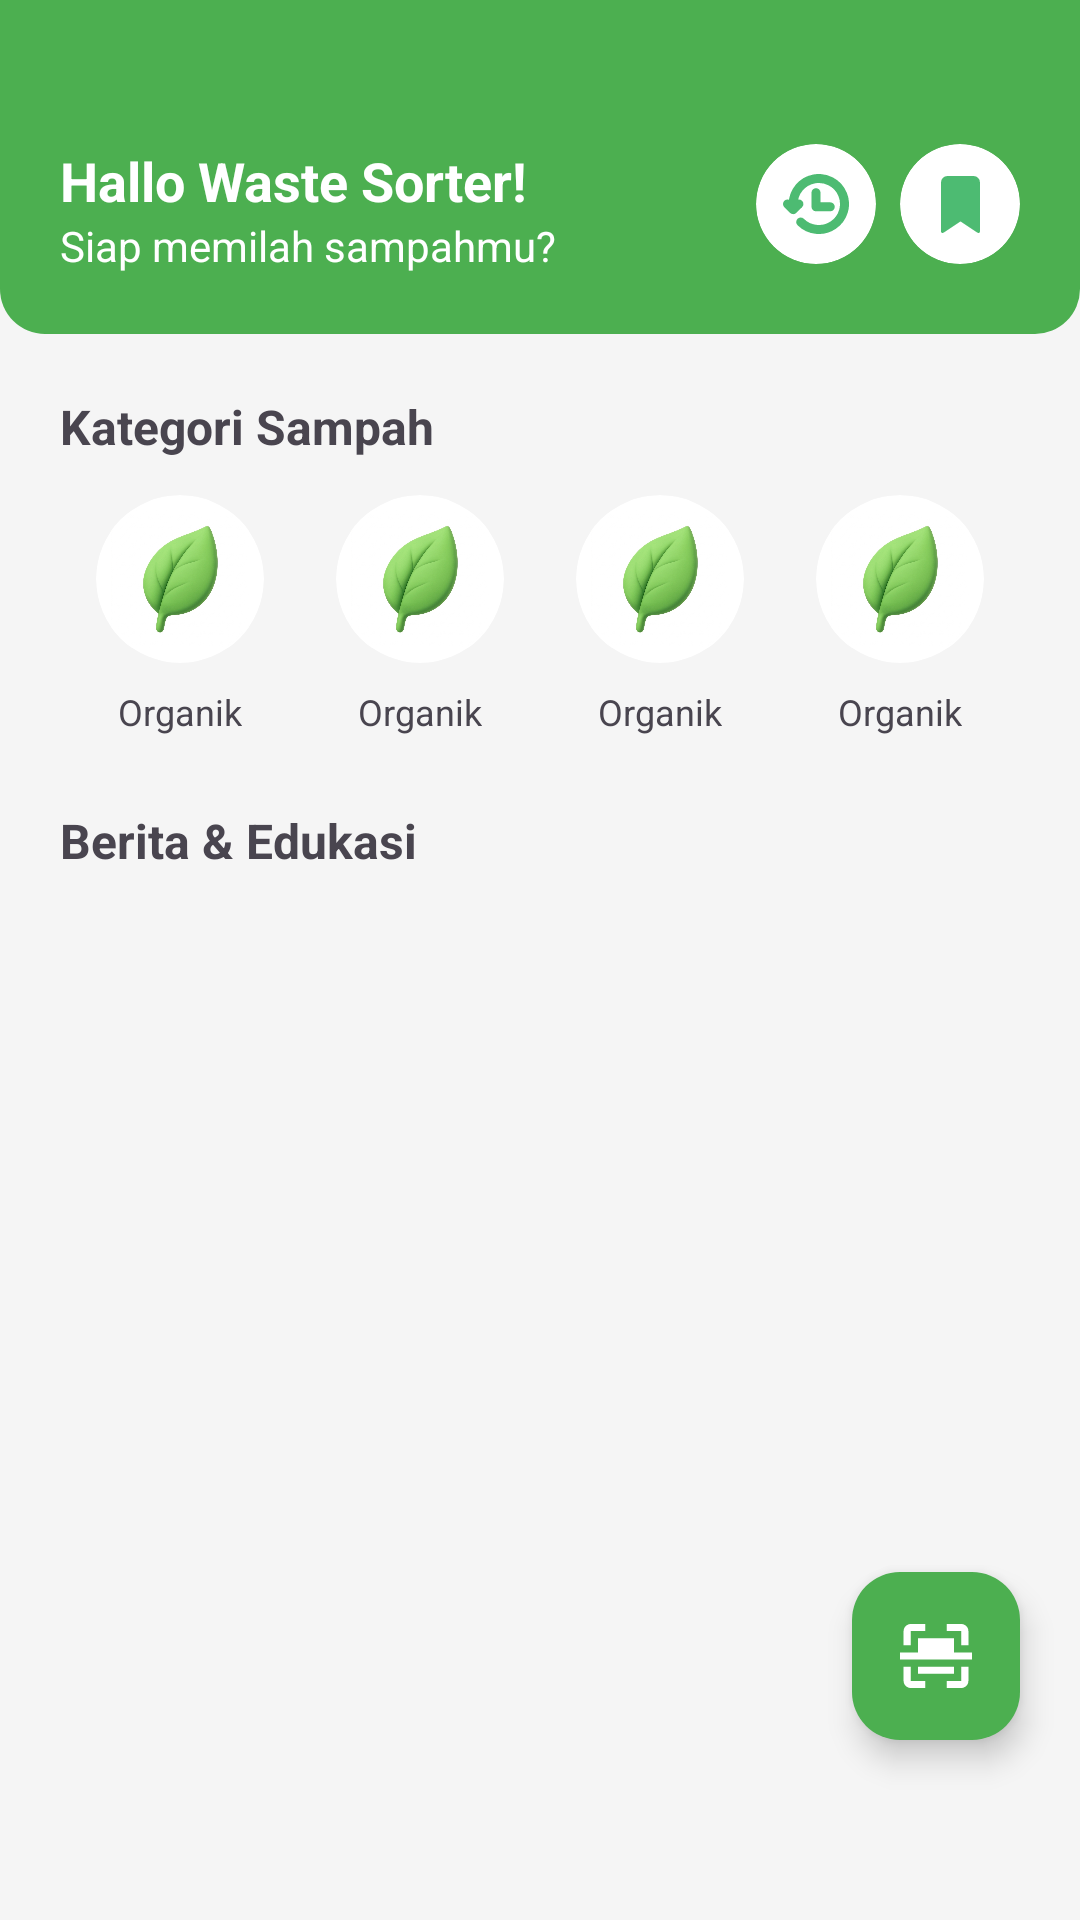

Named icons in this screenshot (1080 × 1920) and their centers, [x,y]:
Riwayat: [816,204]
Scan Sampah: [936,1656]
Tersimpan: [960,204]
